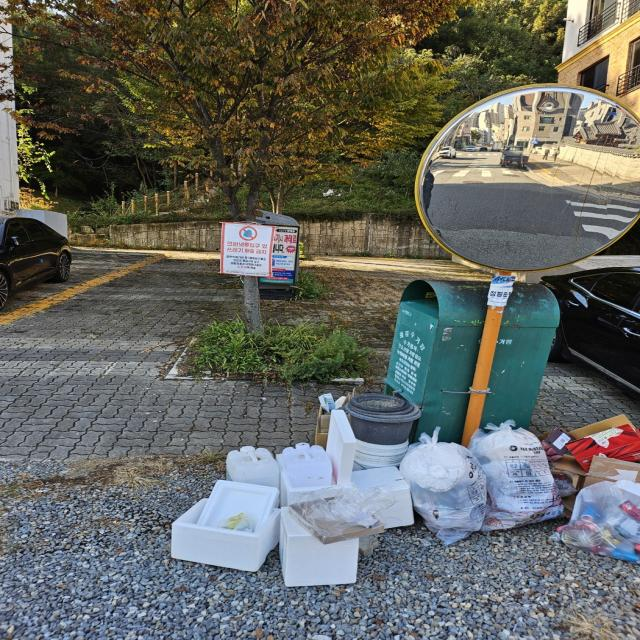General Waste: (170, 391, 640, 587)
